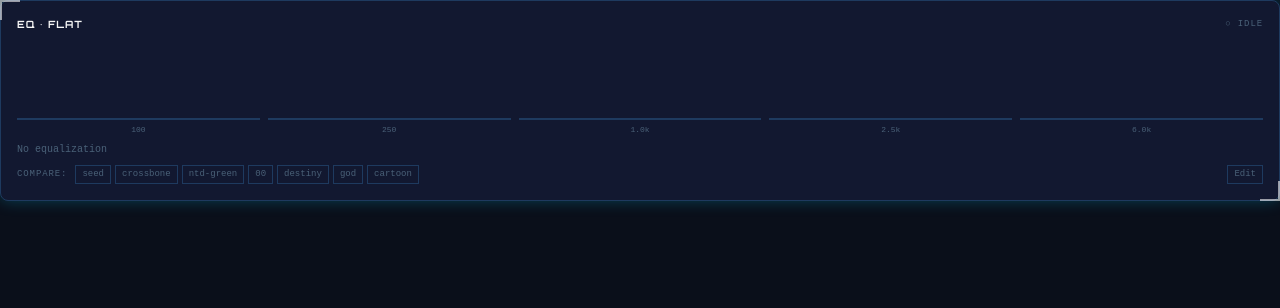
Test: CockpitEqCard A/B compare (Sprint 62 A-A3) › readout formats negative values with a minus sign
The width and height of the screenshot is (1280, 308).
Click the button with test id "eq-edit-toggle".
click(1245, 174)  # box [1227,164,1263,184]
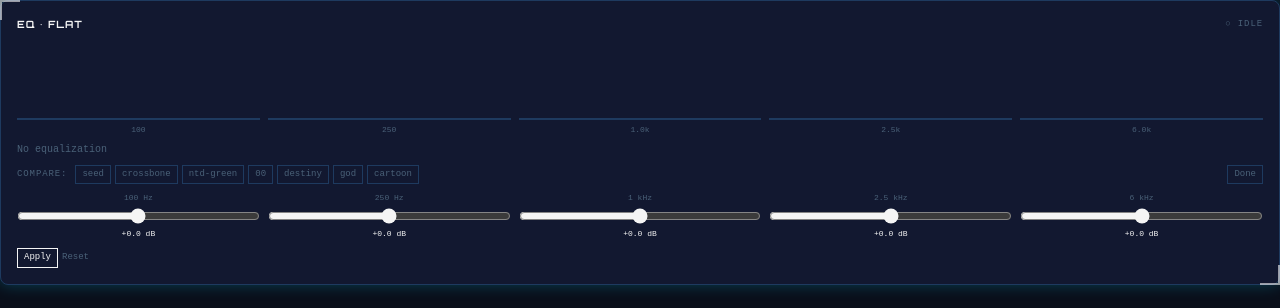
Set the slider with test id "eq-editor-band-4" to "-3" at (1113, 216), box [1020,208,1263,224]
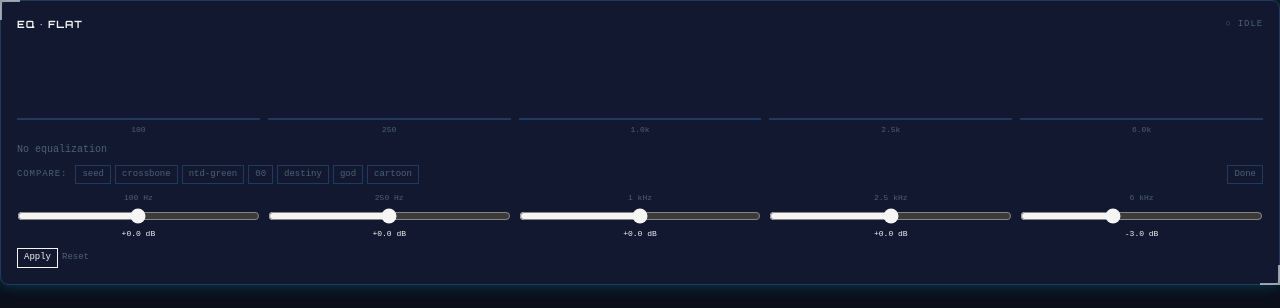
Expected: the text with test id "eq-editor-band-4-readout" reads "-3.0 dB", [1125,228,1158,240]
